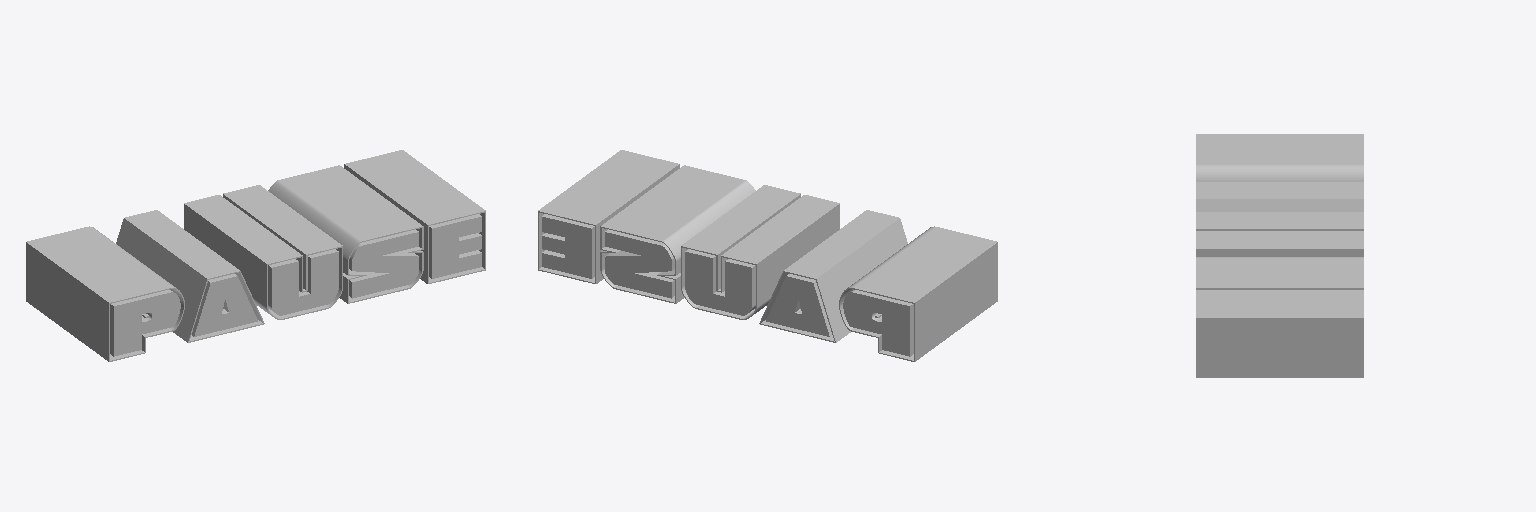
File: pause.obj
3 views of the same model, side by side, from view 1: azimuth 30°, elevation 25°; view 2: azimuth 150°, elevation 25°; view 3: azimuth 270°, elevation 25° (orthographic).
Visible parts, largest first — view 1: Texto; view 2: Texto; view 3: Texto.
Boxes of the visible parts, box(x1,y1,x2,y2) form: Texto: box(26, 150, 485, 361); Texto: box(538, 150, 997, 361); Texto: box(1196, 134, 1363, 377).
Size of the model in its own units: 10.41 by 1.57 by 4.